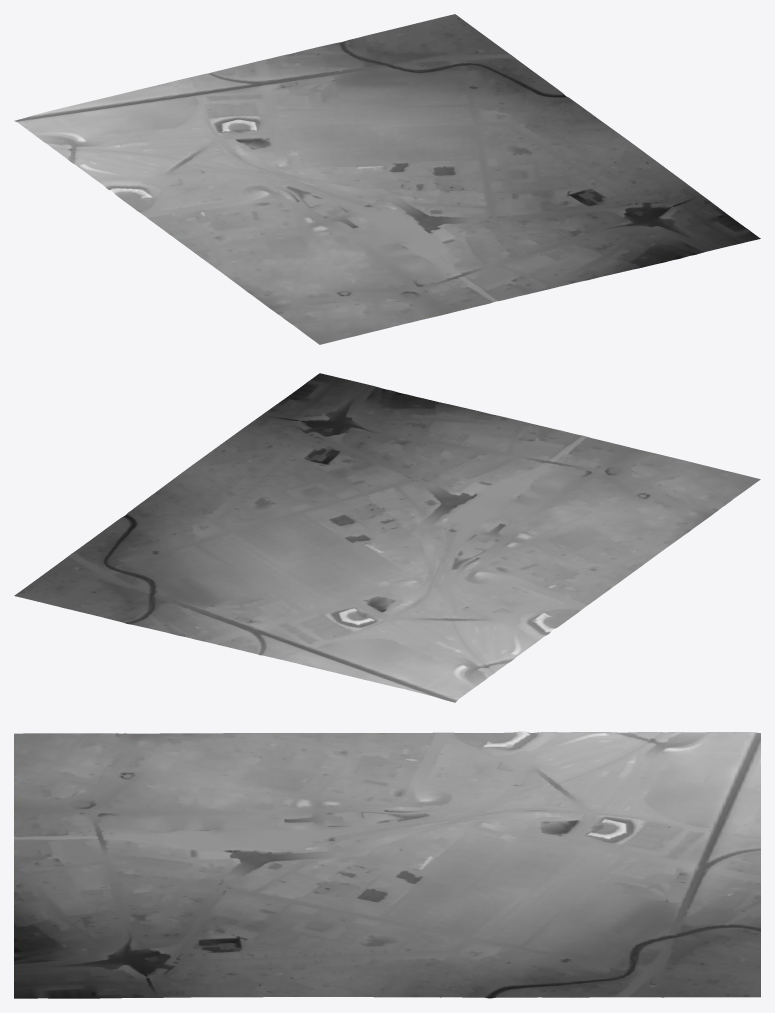
3 views of the same model, one above another, from view 1: azimuth 30°, elevation 25°; view 2: azimuth 150°, elevation 25°; view 3: azimuth 270°, elevation 25° (orthographic). The views are drawn at different scales.
Parts seen in each view (by area): view 1: pk; view 2: pk; view 3: pk.
Part boxes in pixels (<box>): pk: <box>14,14,760,344</box>; pk: <box>14,373,760,702</box>; pk: <box>14,731,760,998</box>.
Size of the model in its own units: 2816 by 22.36 by 3380.
Materials: 1 (1 with a texture image).
